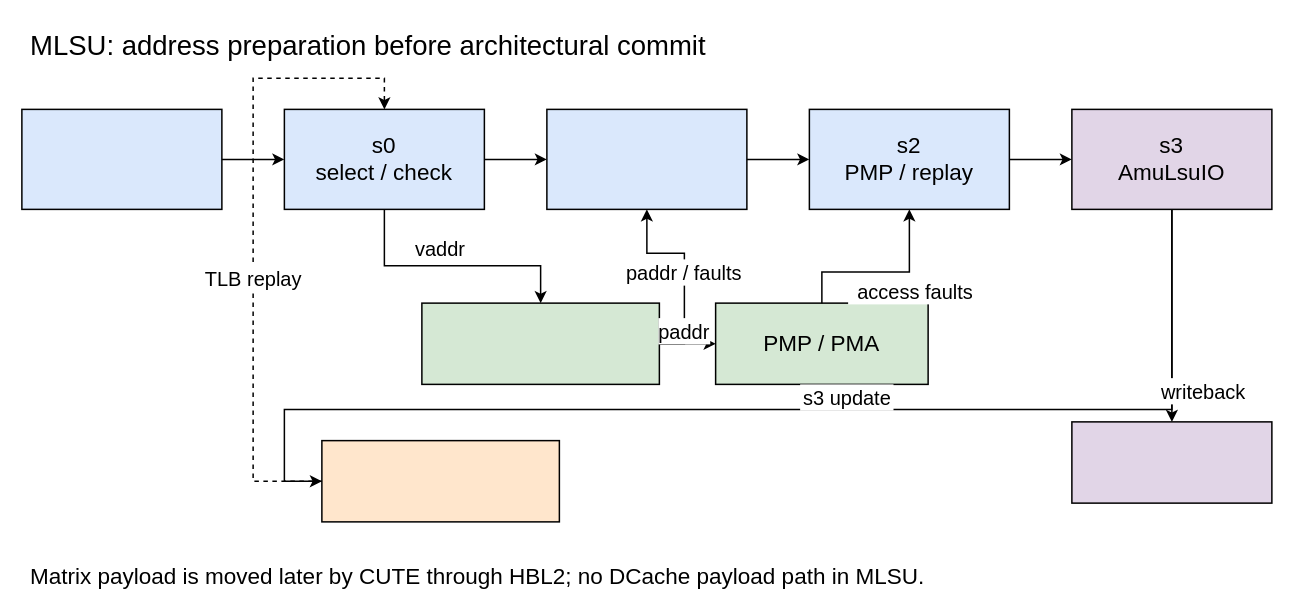
This 1295x613 diagram has some shape labels left out. The shapes that lost their labels are listed below. From the top down, each one's centre as x and y in pixels, then its label:
At point 121,159: "Memory IQ base / stride / mx".
At point 646,159: "s1 TLB response".
At point 539,343: "DTLB".
At point 440,480: "MLSQ / replay".
At point 1171,461: "ROB commit AMU buffer".
